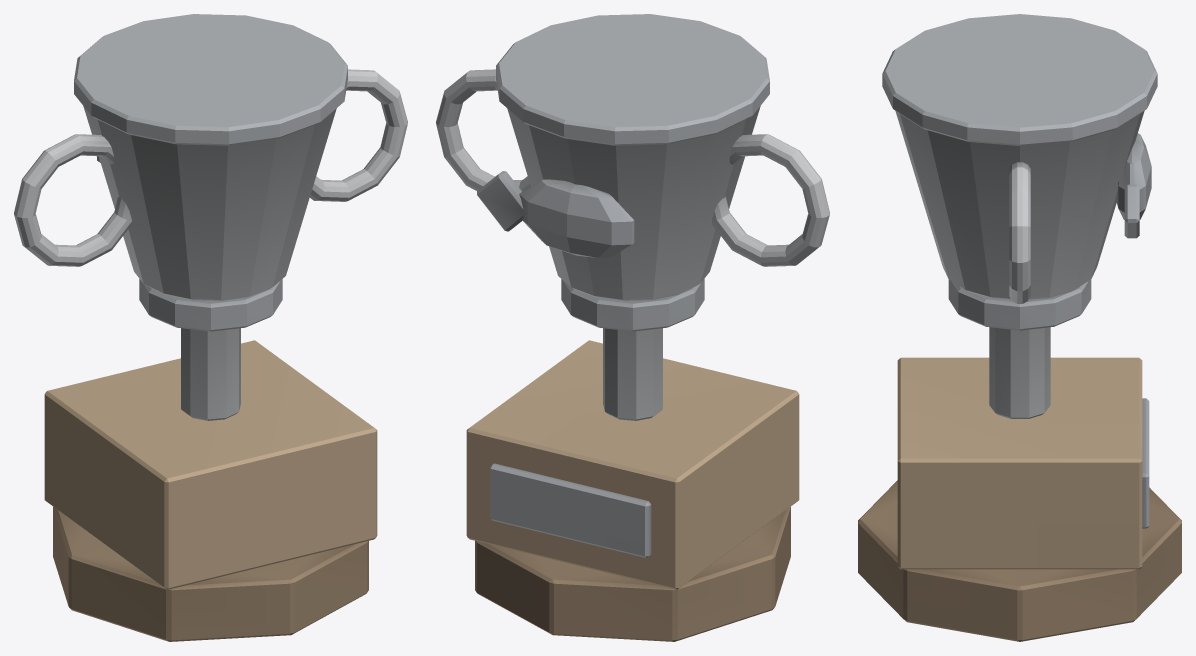
Rendered from event_trophy_fish_silver.glb.
3 views of the same model, side by side, from view 1: azimuth 30°, elevation 25°; view 2: azimuth 150°, elevation 25°; view 3: azimuth 270°, elevation 25° (orthographic).
Size of the model in its own units: 0.441 by 0.545 by 0.3177.
